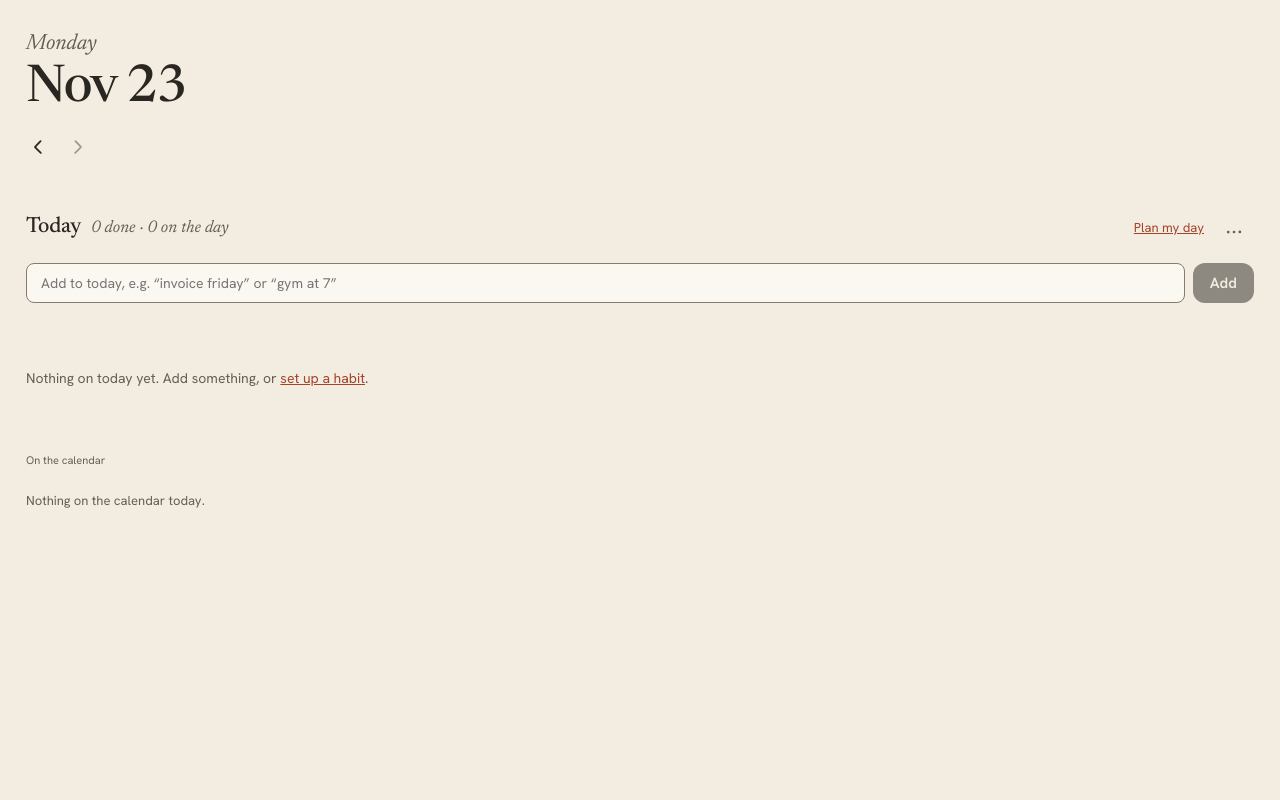
it: the habits sheet under Field notes › drops the blurb, and keeps the warning on deleting a habit
Click the button named "More actions".
click(1234, 228)  # box left=1214, top=208, right=1254, bottom=248
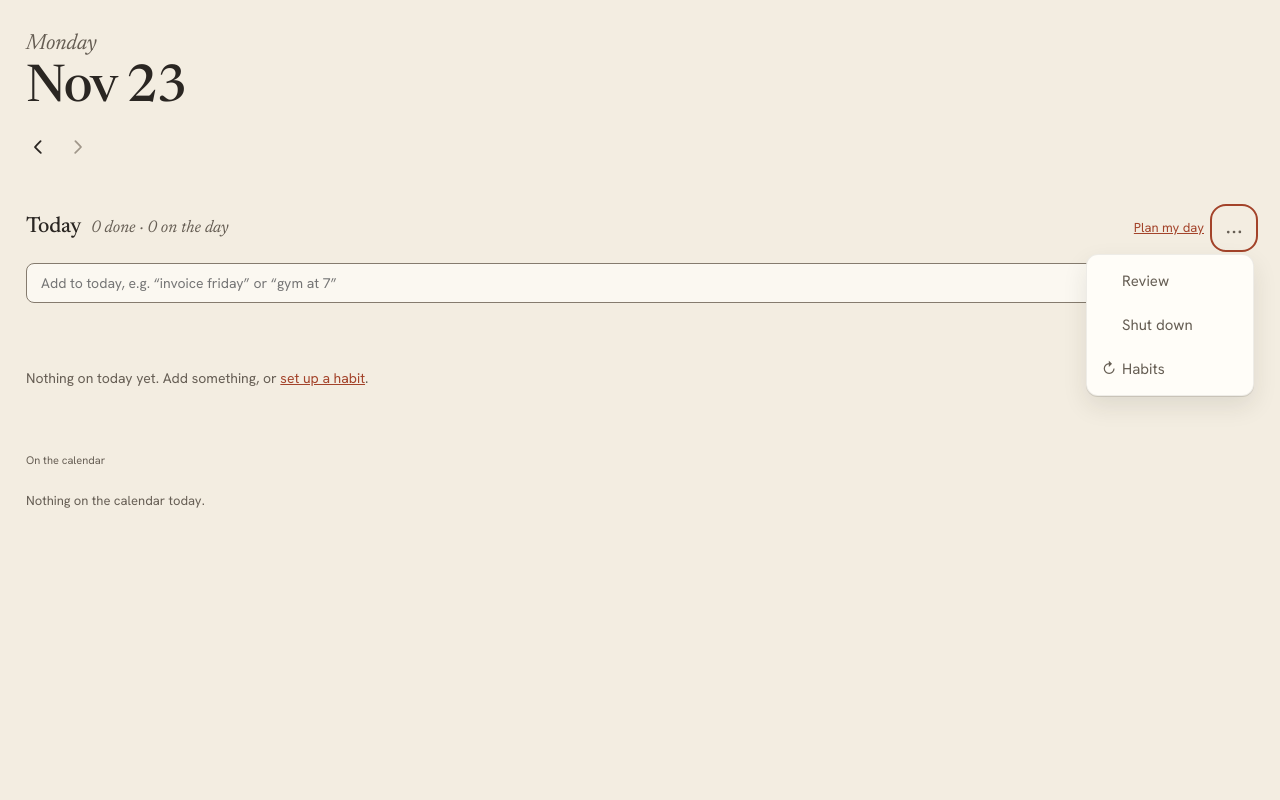
Click the button "↻ Habits".
click(1170, 369)  # box left=1091, top=347, right=1249, bottom=391
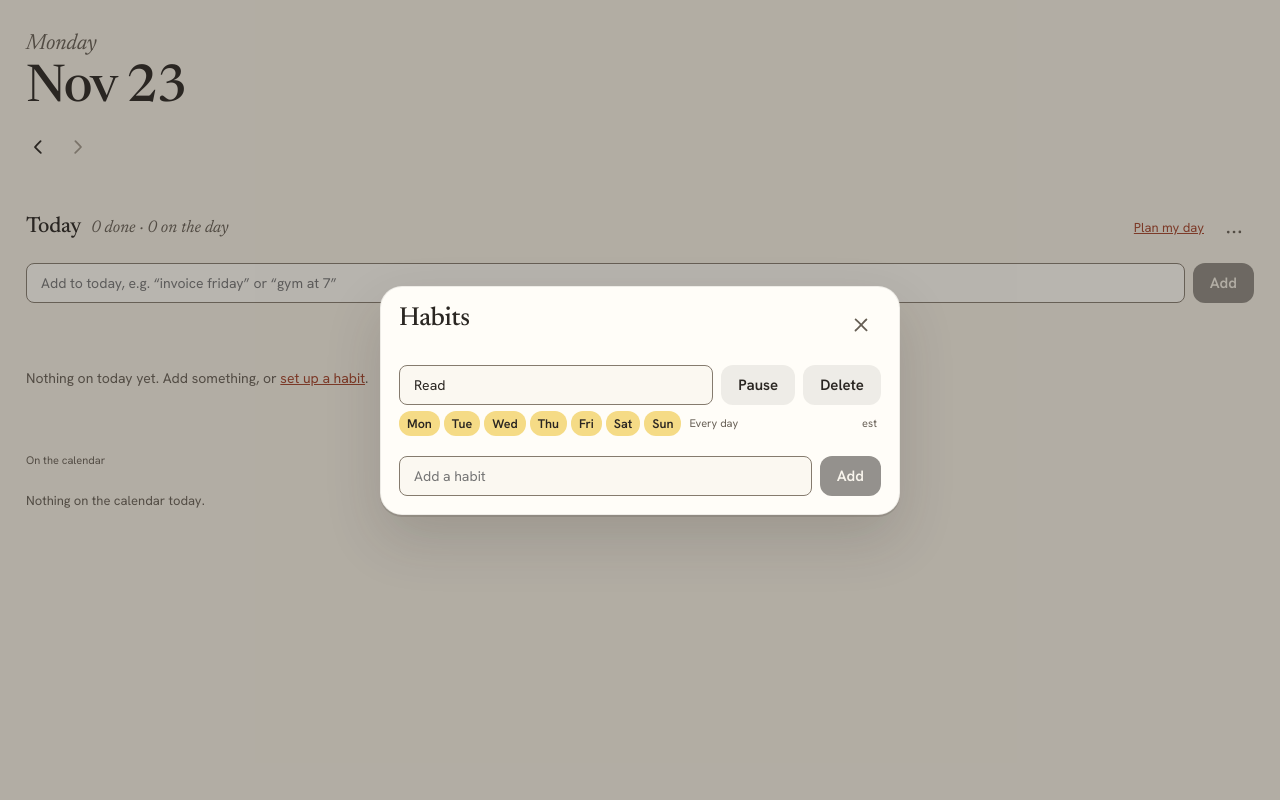
Click the button with aria-label "Delete Read".
click(842, 384)  # box left=803, top=364, right=881, bottom=404
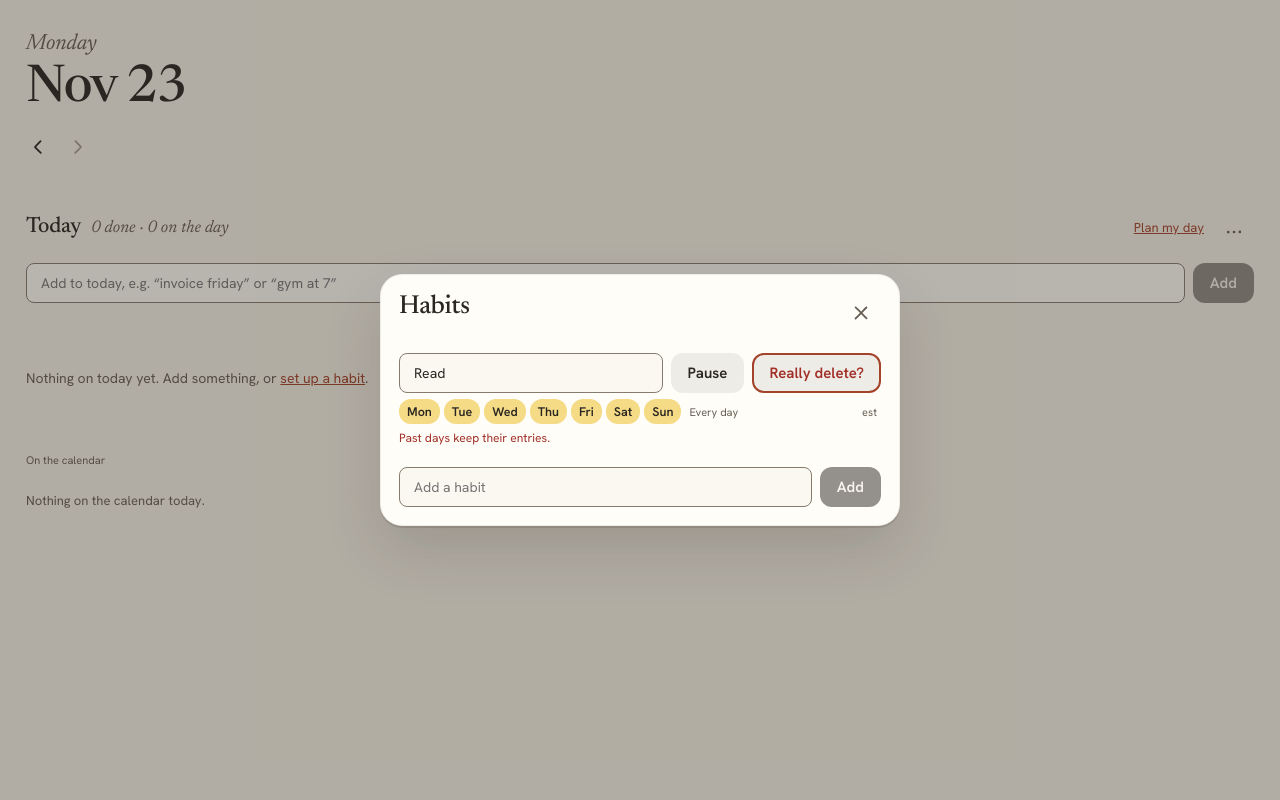
Check: the text "Past days keep their entries." is shown, box left=399, top=430, right=550, bottom=446
